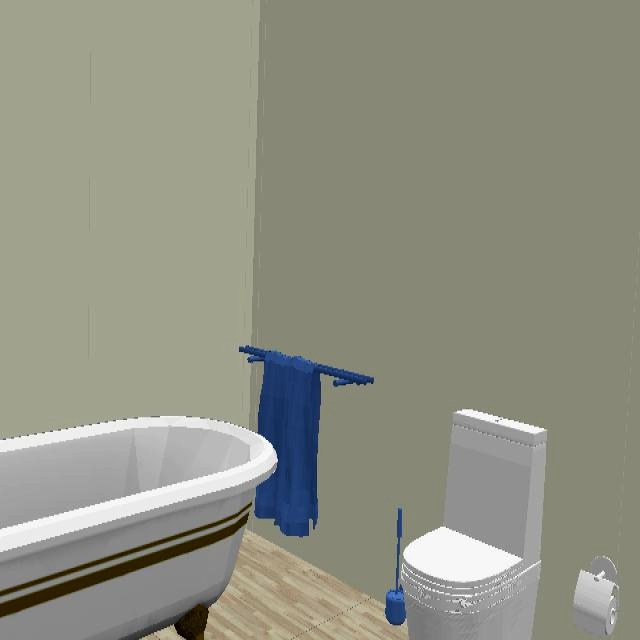bathtube: (0, 418, 278, 640)
toilet: (400, 412, 546, 640)
